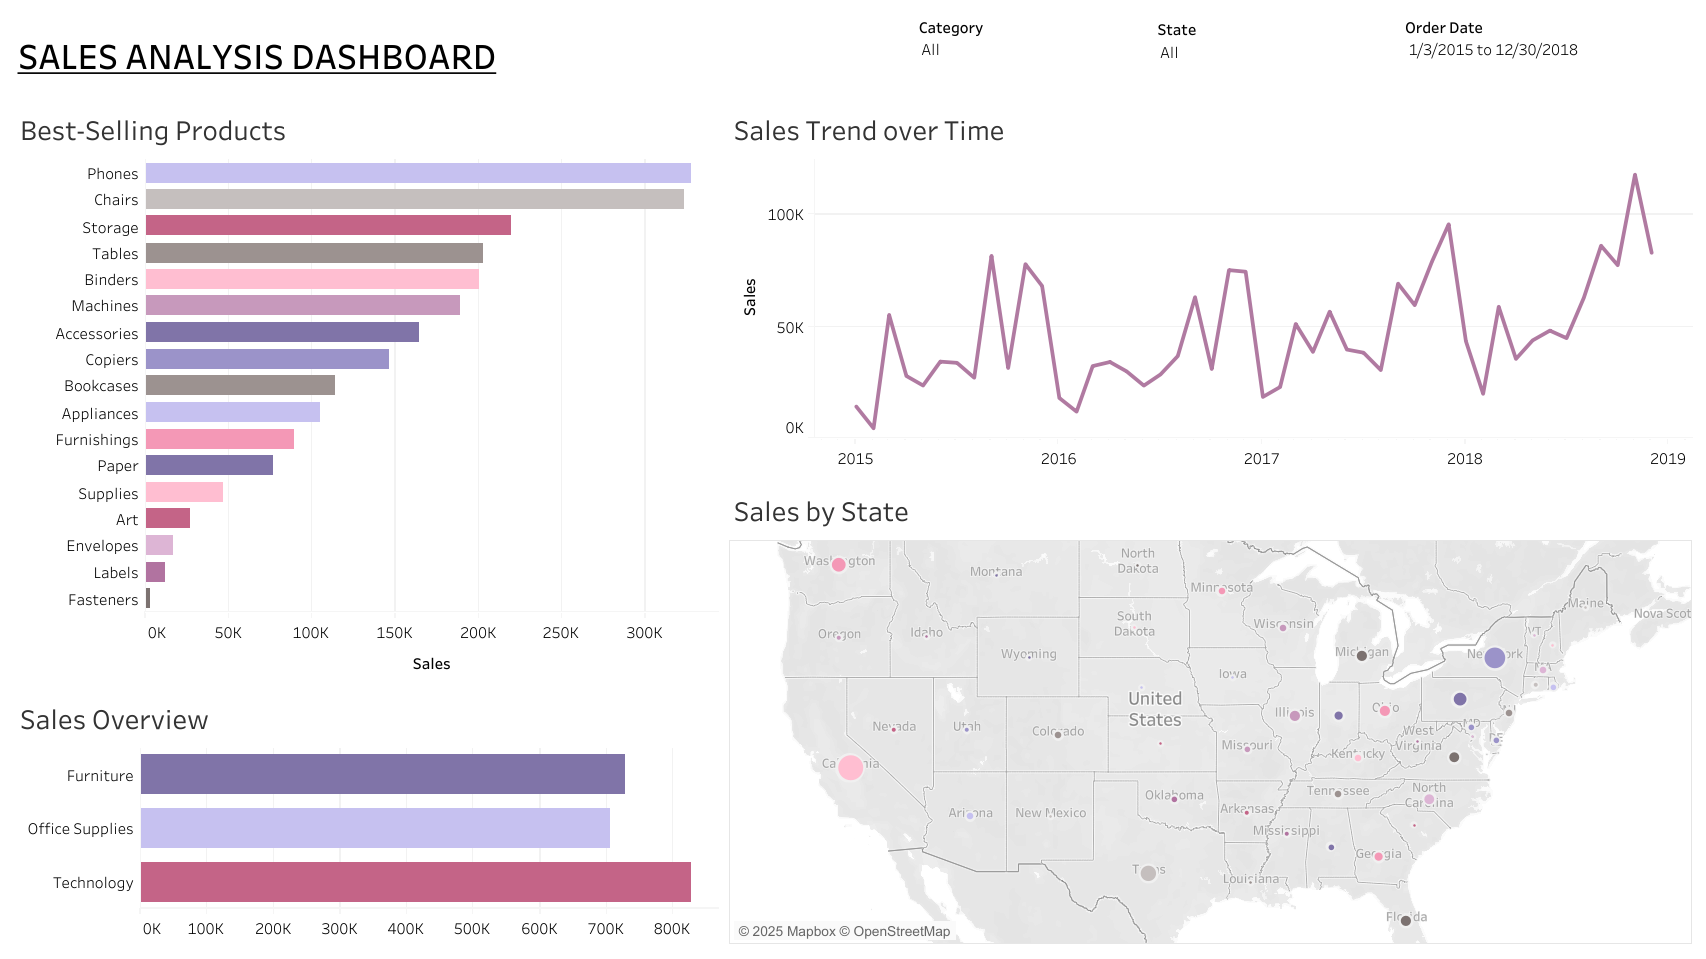

The page's visual inventory and layout, read from the dashboard file:
{"tool":"tableau","page":{"name":"Dashboard 1","canvas":[1000,800],"ordinal":0},"visuals":[{"type":"text","box":[8,8,984,74]},{"type":"filter","title":"Sheet 1","param":"[federated.0iujtfl1sepwyw1053wch0xioodw].[none:Category:nk]","box":[538,11,133,59]},{"type":"filter","title":"Sheet 4","param":"[federated.0iujtfl1sepwyw1053wch0xioodw].[none:Order Date:qk]","box":[823,11,168,73]},{"type":"filter","title":"Sheet 3","param":"[federated.0iujtfl1sepwyw1053wch0xioodw].[none:State:nk]","box":[678,14,139,53]},{"type":"worksheet","title":"Sheet 2","mark":"Automatic","rows":["Sub-Category"],"cols":["Sales"],"box":[8,82,416,490.8]},{"type":"worksheet","title":"Sheet 4","mark":"Automatic","rows":["Sales"],"cols":["Order Date"],"box":[424,82,568,318]},{"type":"worksheet","title":"Sheet 3","mark":"Automatic","box":[424,400,568,392]},{"type":"worksheet","title":"Sheet 1","mark":"Automatic","rows":["Category"],"cols":["Sales"],"box":[8,572.8,416,219.2]}]}

Visuals, with their boxes on the page's 1000x800 design canvas (x1, y1, x2, y2). These are canvas units, not pixel positions in the 1706x959 screenshot, which may show the page scaled, cropped or inside an application window:
text: <bbox>8, 8, 992, 82</bbox>
"Sheet 1" filter: <bbox>538, 11, 671, 70</bbox>
"Sheet 4" filter: <bbox>823, 11, 991, 84</bbox>
"Sheet 3" filter: <bbox>678, 14, 817, 67</bbox>
"Sheet 2" worksheet: <bbox>8, 82, 424, 573</bbox>
"Sheet 4" worksheet: <bbox>424, 82, 992, 400</bbox>
"Sheet 3" worksheet: <bbox>424, 400, 992, 792</bbox>
"Sheet 1" worksheet: <bbox>8, 573, 424, 792</bbox>
